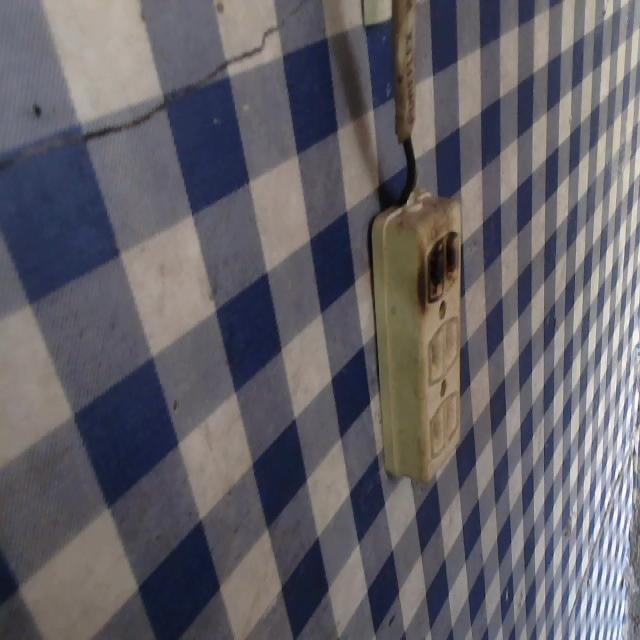-: (412, 221, 469, 308)
